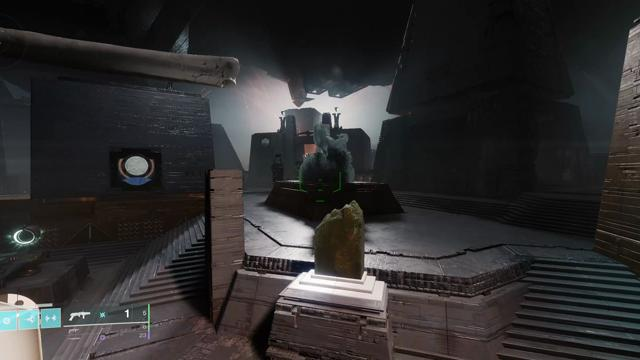traveler: (117, 154, 156, 186), (262, 138, 270, 147)
